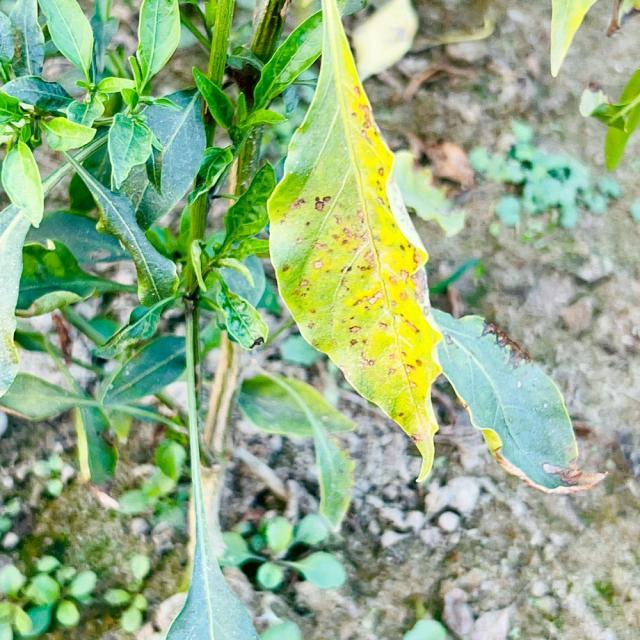Bercak Daun Serkospora: (265, 0, 445, 483)
